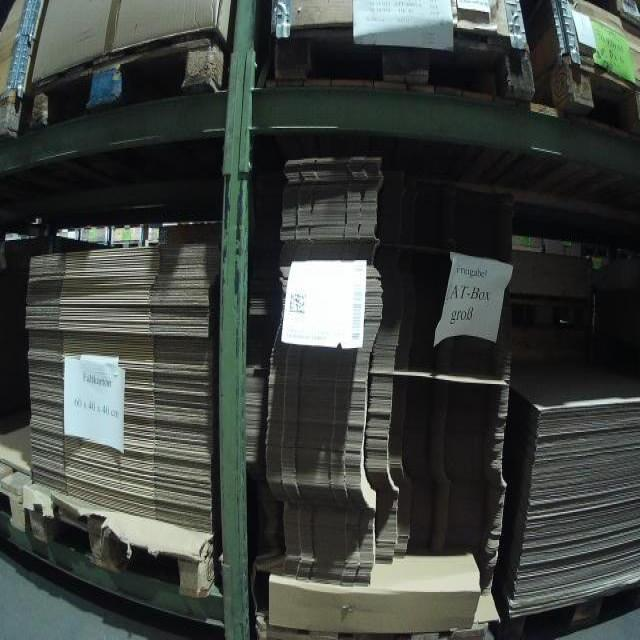pallet: (29, 485, 216, 602), (22, 29, 231, 133), (267, 23, 537, 103), (497, 582, 640, 640), (547, 45, 640, 133), (507, 298, 590, 328), (0, 463, 29, 533)
